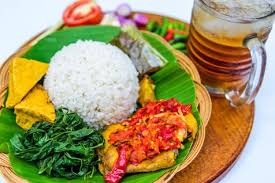ayam_geprek: (1, 1, 197, 183)
